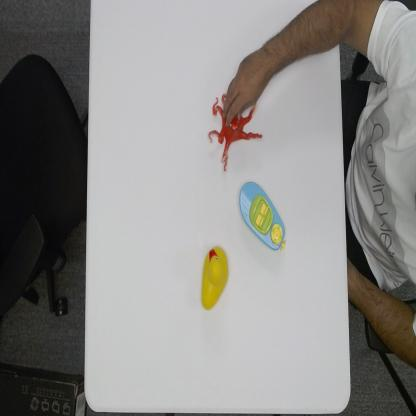Arm: (270, 0, 381, 66)
Boat: (238, 179, 288, 254)
Duck: (200, 242, 230, 312)
Hand: (220, 58, 275, 126)
Octopus: (208, 89, 264, 172)
